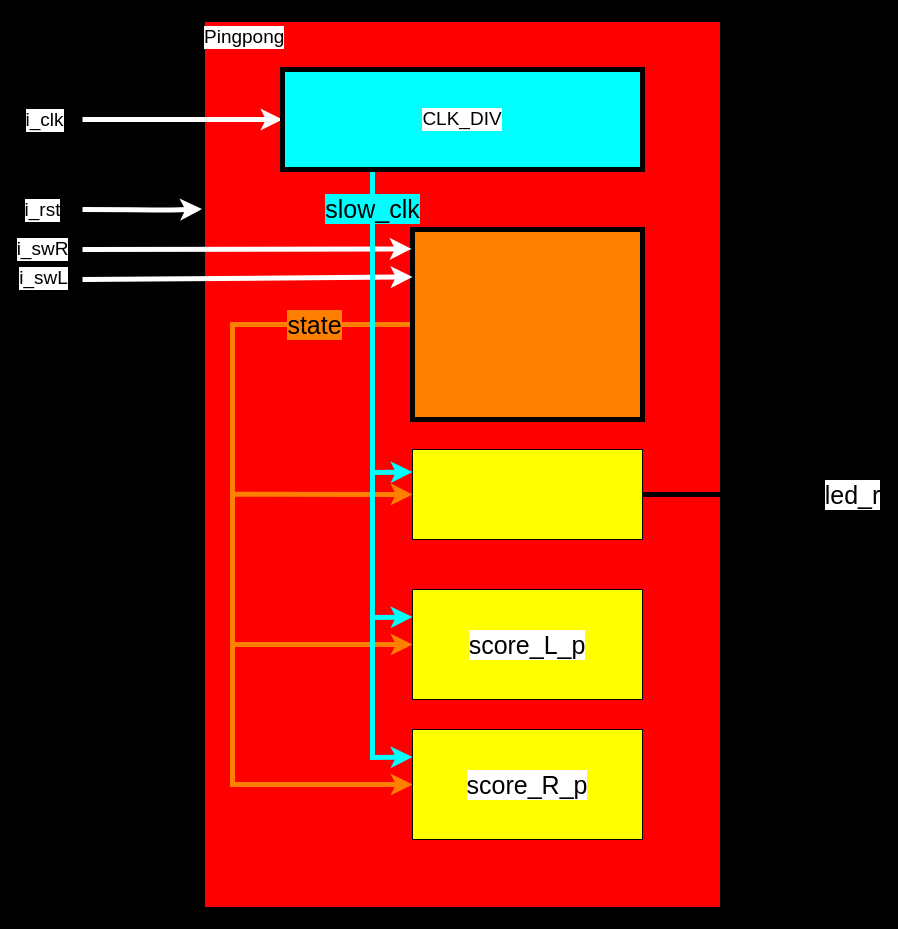
This 898x929 diagram has some shape labels left out. Here are the shapes that lost their labels. From the top down, the box of each, then its label:
(410, 226, 644, 422): FSM
(412, 448, 642, 540): LED_P
